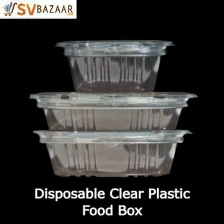plastic_box: (27, 123, 197, 182), (24, 85, 203, 137), (50, 33, 178, 99)
